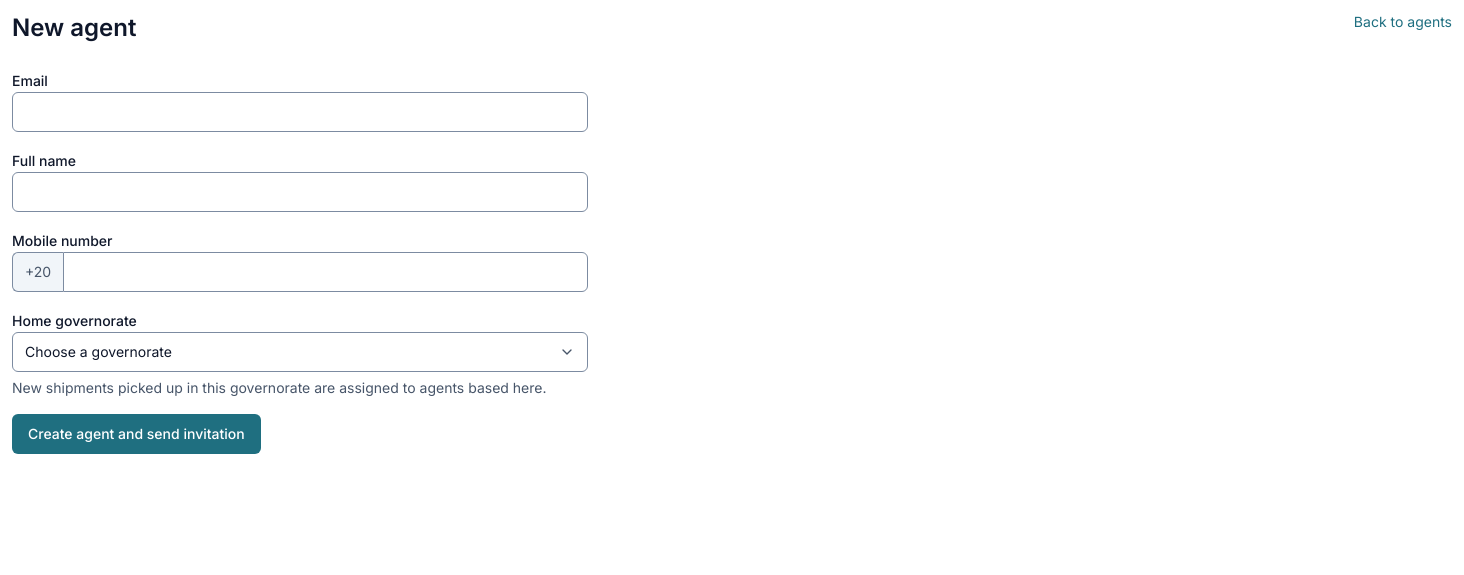
Test: new agent (spec 03 AD-10) › validation errors stay in the form
The image size is (1464, 575).
Click the button "Create agent and send invitation".
click(136, 434)  # box [12,414,261,454]
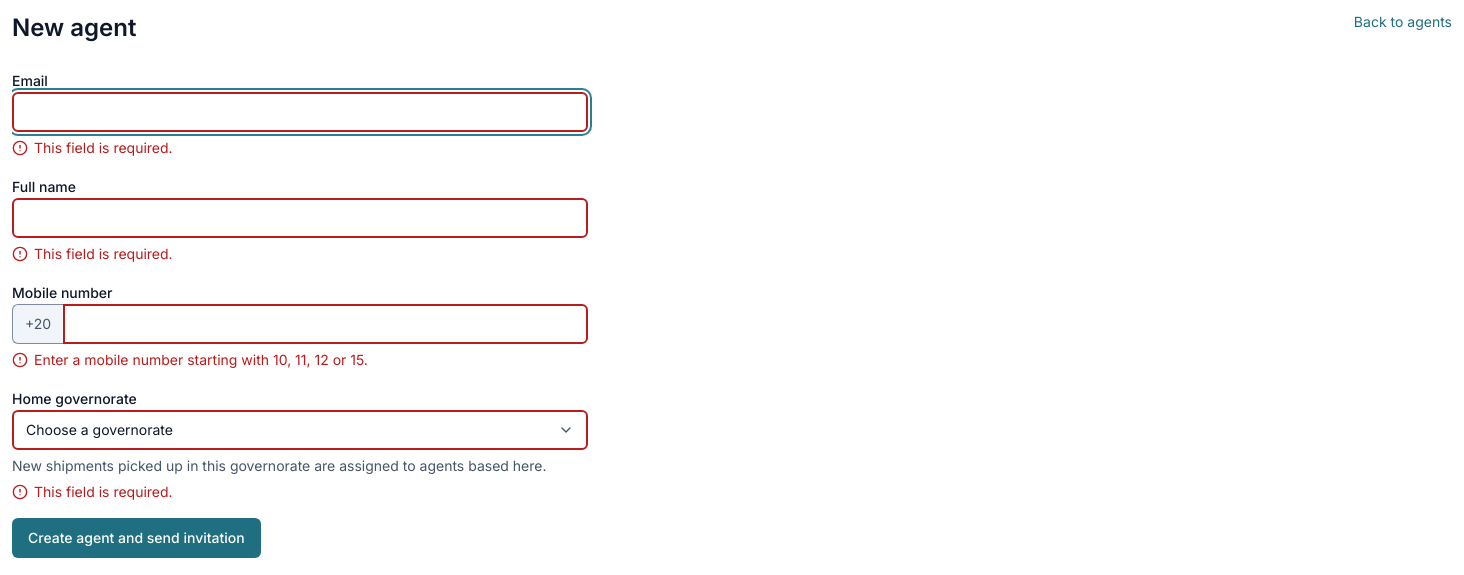
Result: the text "This field is required." below "Email" is shown at [34,139,173,156]
